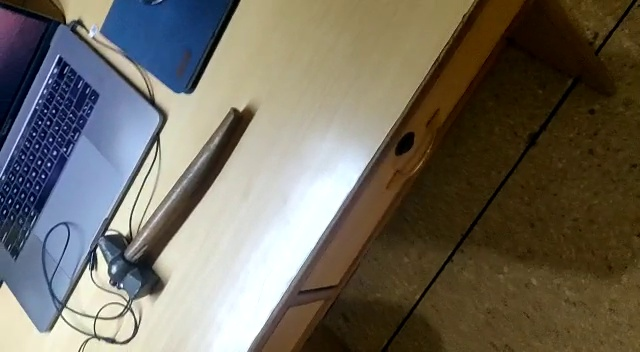hammer: (94, 105, 249, 302)
